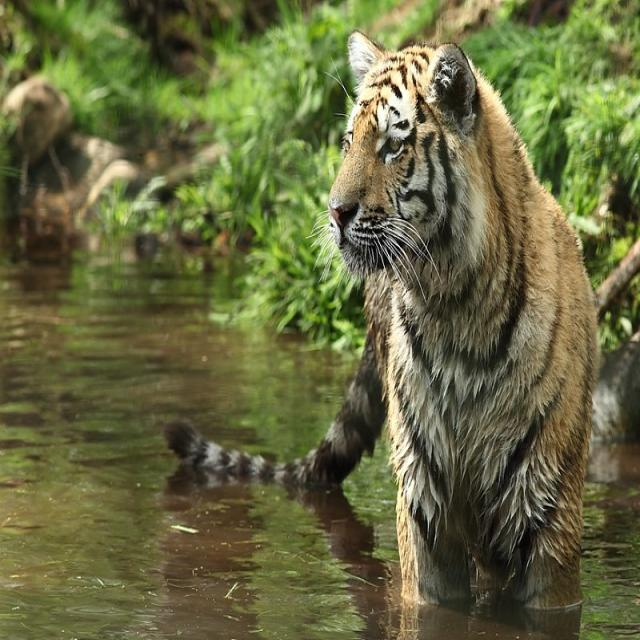Tiger: (213, 31, 597, 615)
